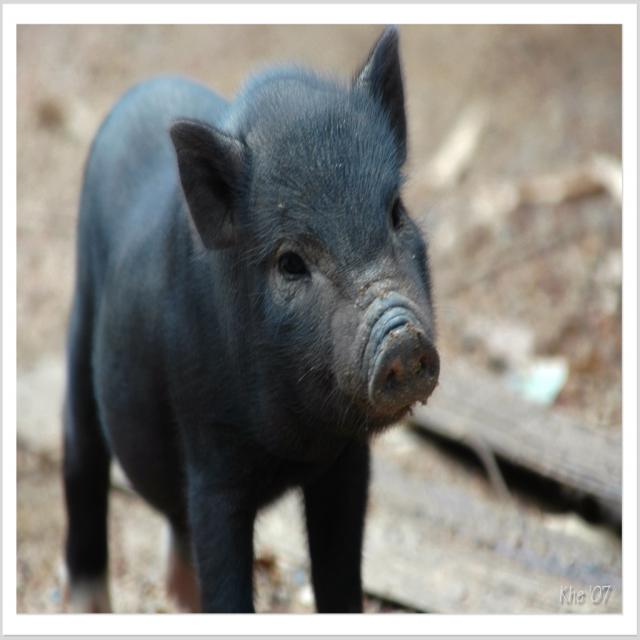Pig: (59, 21, 443, 617)
